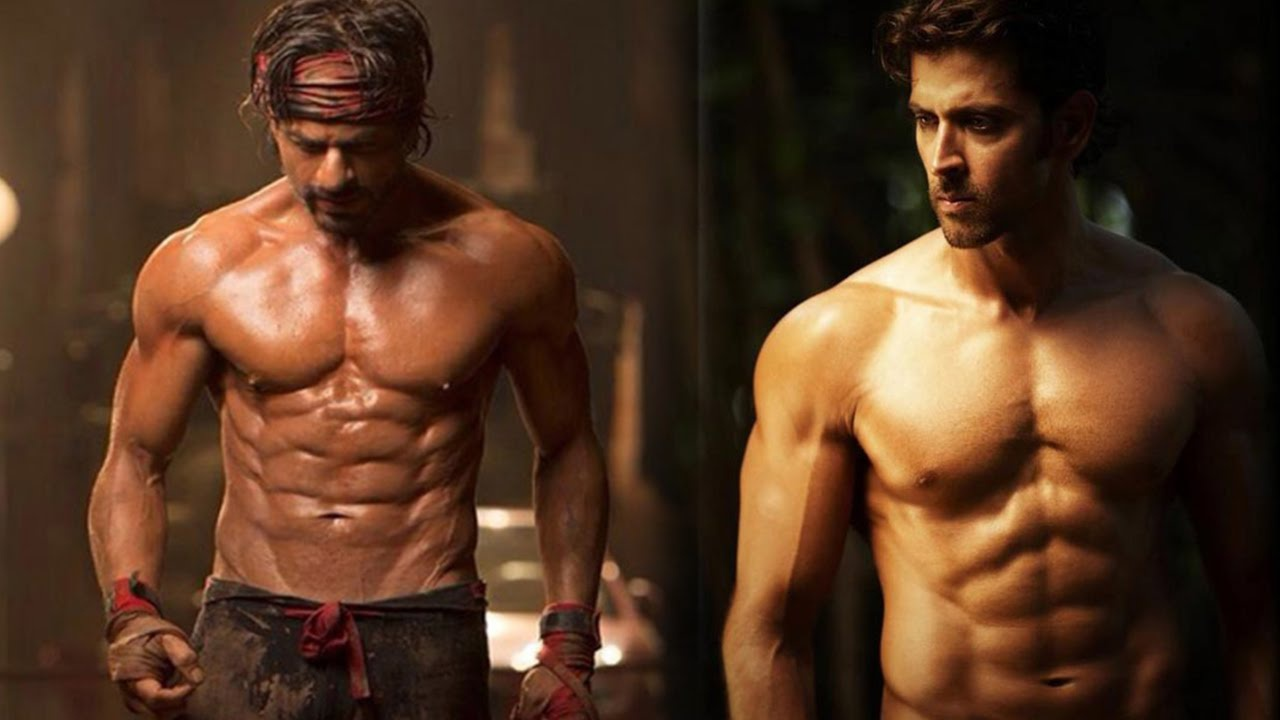bad: (892, 80, 999, 187)
